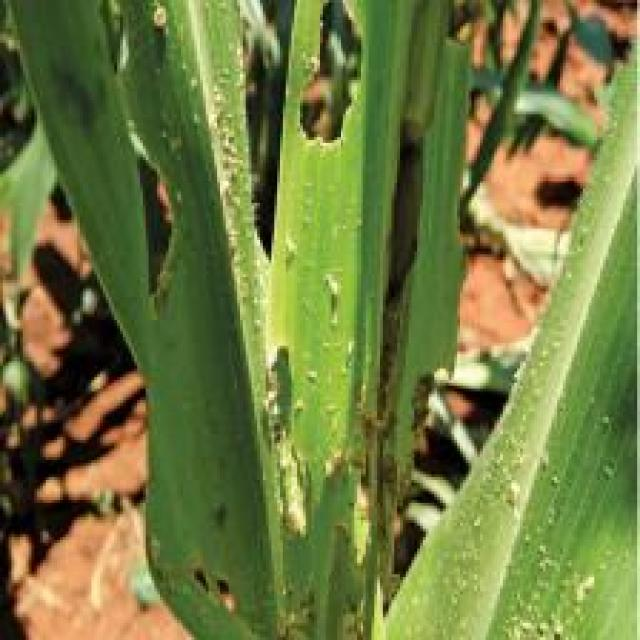Plaga: (310, 331, 398, 560)
